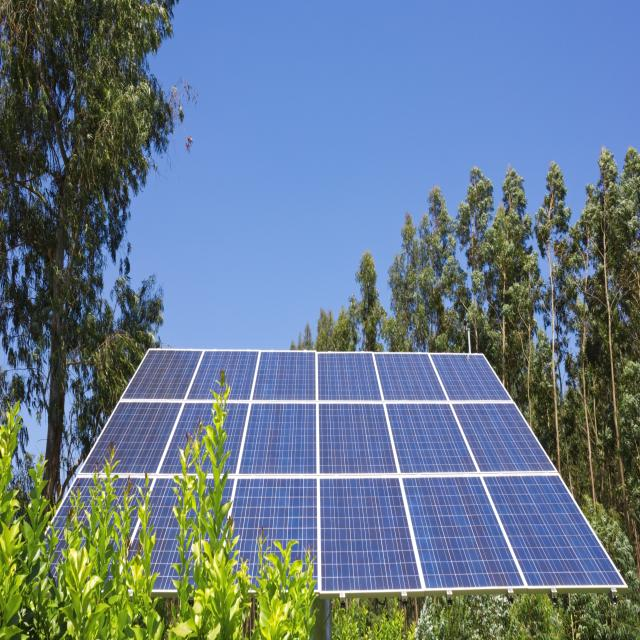clean-solar-panel: (74, 349, 625, 593)
